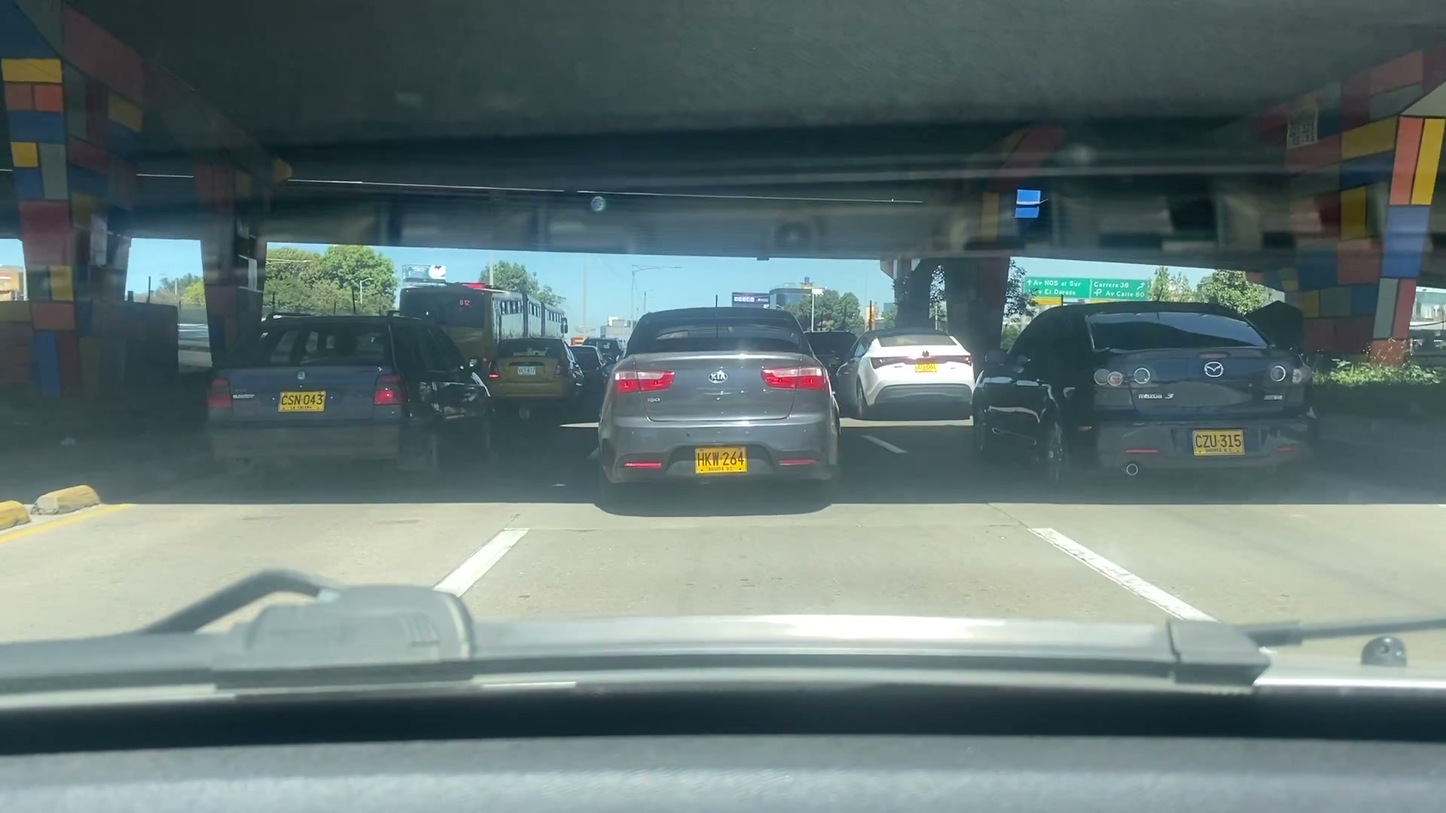bus: (396, 284, 570, 373)
car: (972, 299, 1317, 481), (205, 312, 501, 471), (597, 306, 842, 498), (834, 328, 973, 417), (479, 337, 582, 404), (566, 345, 605, 393), (584, 338, 622, 375)
